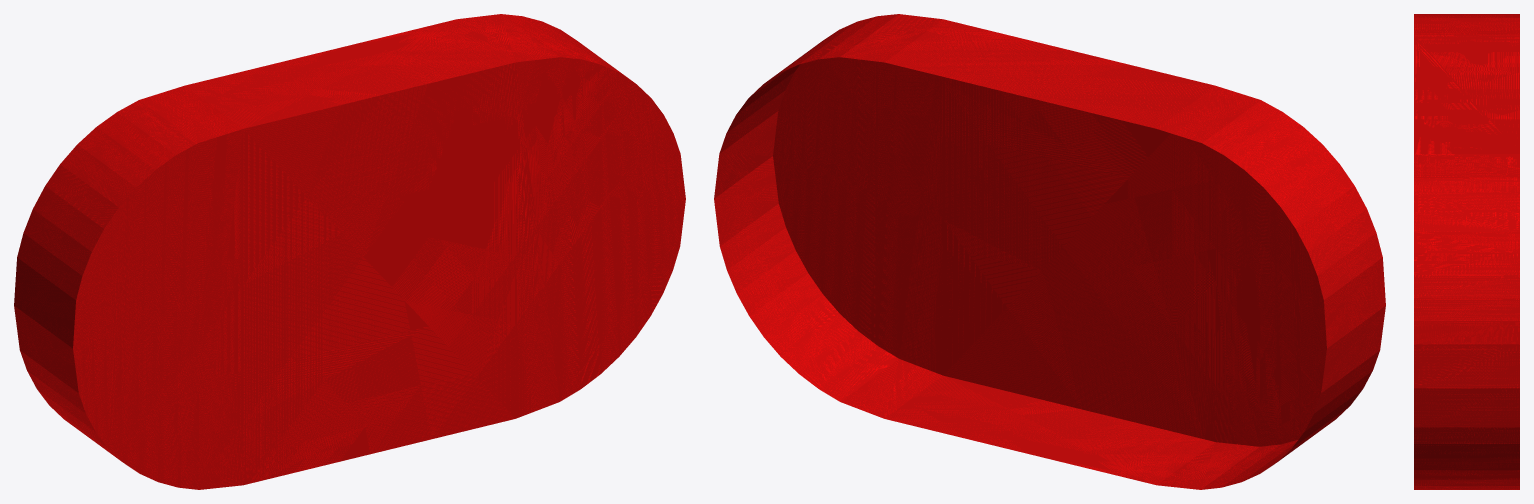
File: original-38.obj
The picture shows the model from 3 angles, left to right: view 1: azimuth 30°, elevation 25°; view 2: azimuth 150°, elevation 25°; view 3: azimuth 270°, elevation 25°; orthographic projection. The views are drawn at different scales.
Parts seen in each view (by area): view 1: mesh9/mesh9-geometry/material_0/component_25#mesh9-geometry; view 2: mesh9/mesh9-geometry/material_0/component_25#mesh9-geometry; view 3: mesh9/mesh9-geometry/material_0/component_25#mesh9-geometry.
Part boxes in pixels (bbox=[...]): mesh9/mesh9-geometry/material_0/component_25#mesh9-geometry: bbox=[14, 14, 685, 489]; mesh9/mesh9-geometry/material_0/component_25#mesh9-geometry: bbox=[714, 14, 1385, 489]; mesh9/mesh9-geometry/material_0/component_25#mesh9-geometry: bbox=[1414, 14, 1519, 489].
Bounding box in the file's own units: 0.091 × 0.0506 × 0.0152.
